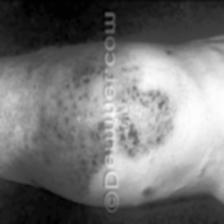Non-Cancerous Skin Condition: (41, 54, 104, 198), (116, 78, 176, 162)
